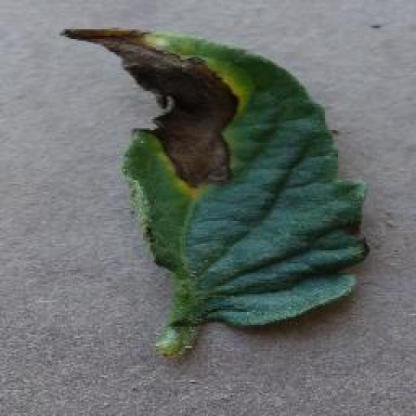Tomato_Blight: (61, 29, 365, 325)
